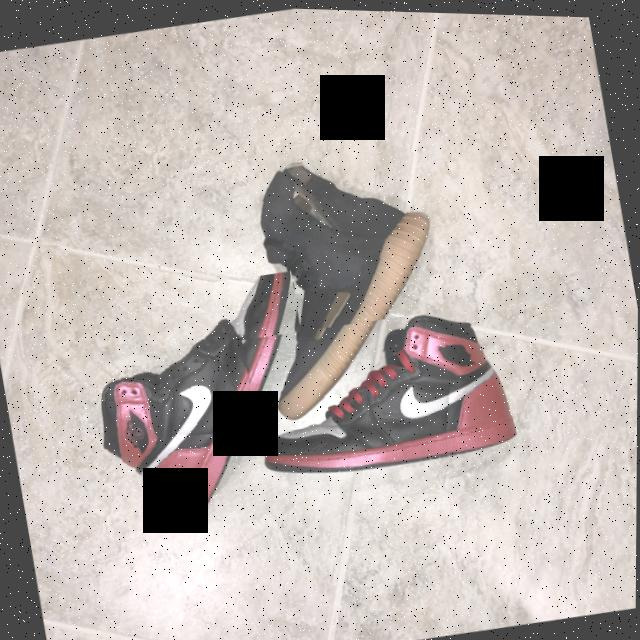shoe: (73, 264, 330, 532), (228, 135, 461, 426), (241, 293, 524, 493)
